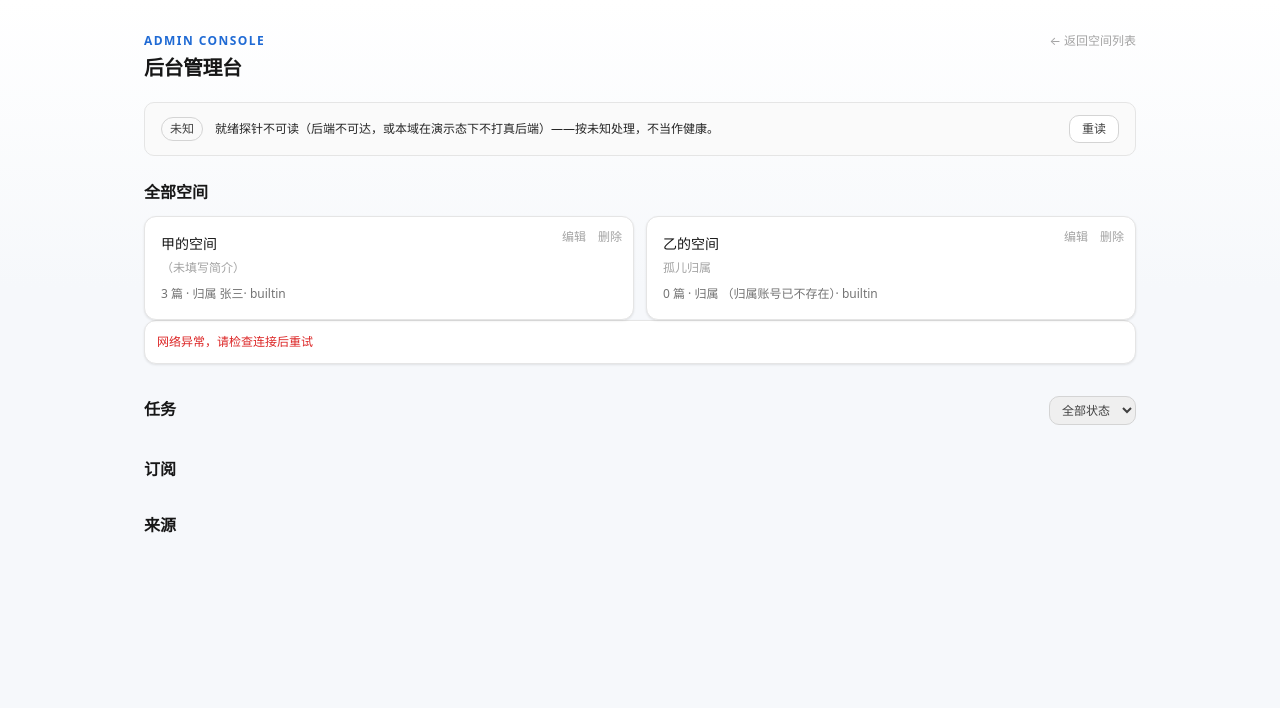
后台管理台：跨用户浏览 › 打开空间走 admin 读端点，分页与服务端过滤同口径
The width and height of the screenshot is (1280, 708).
Click the button "甲的空间 （未填写简介） 3 篇 · 归属 张三· builtin" at (189, 244), box [144,216,634,320]
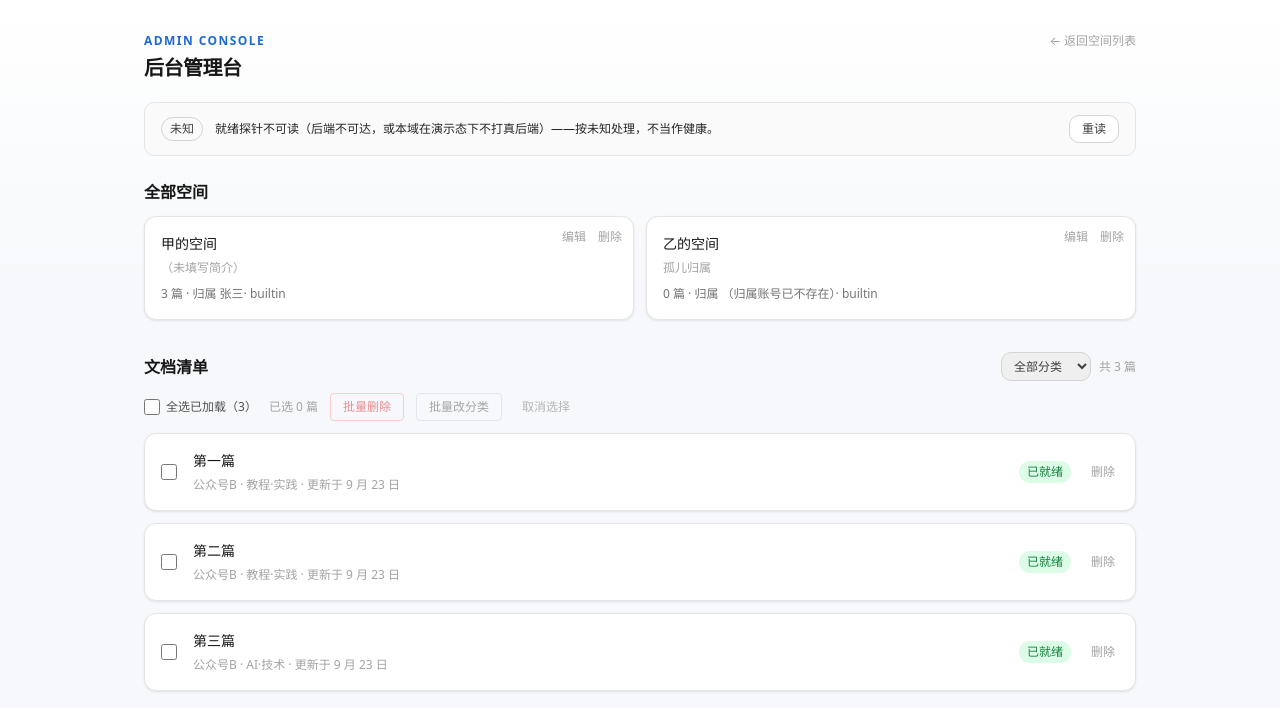
expect the text "第一篇" is shown: met, box [193,451,235,470]
expect the text "共 3 篇" is shown: met, box [1099,358,1136,376]
expect the dropdown named "按分类筛选" is shown: met
Select "教程·实践" in the dropdown named "按分类筛选" at (1046, 366), box [1001,352,1091,381]
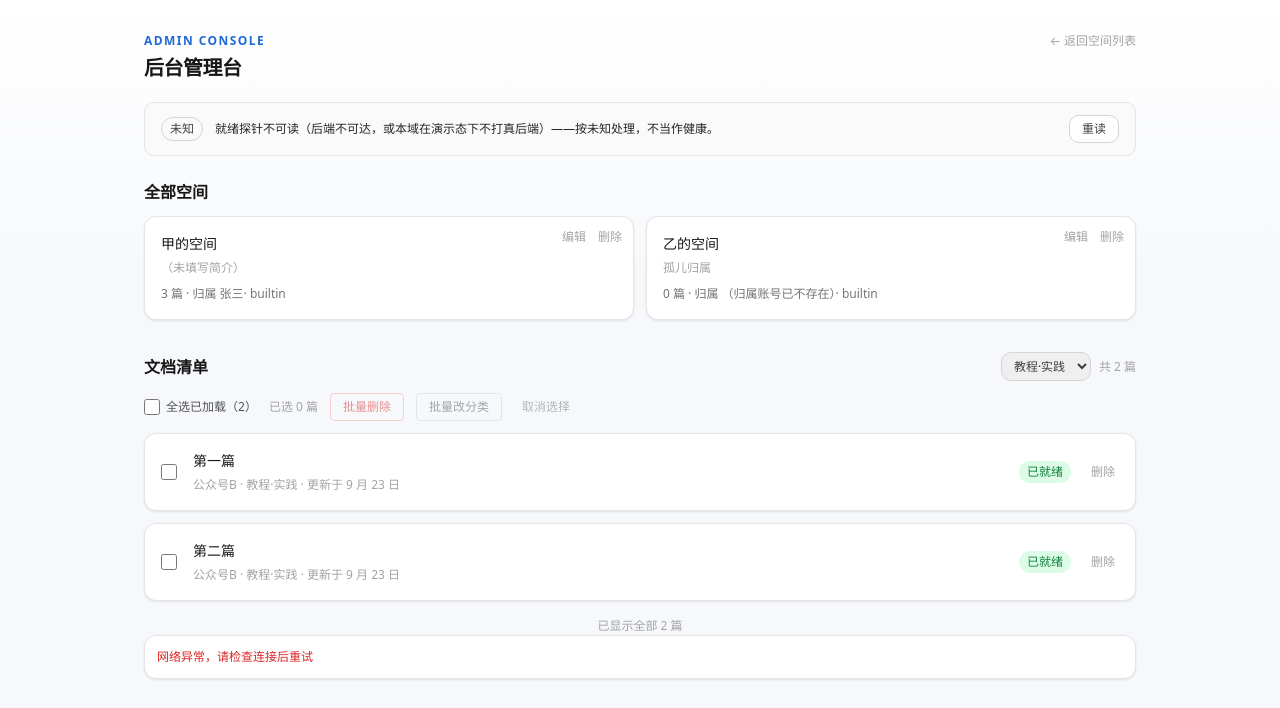
expect the text "共 2 篇" is shown: met, box [1099,358,1136,376]
expect the text "第三篇" is gone: met
